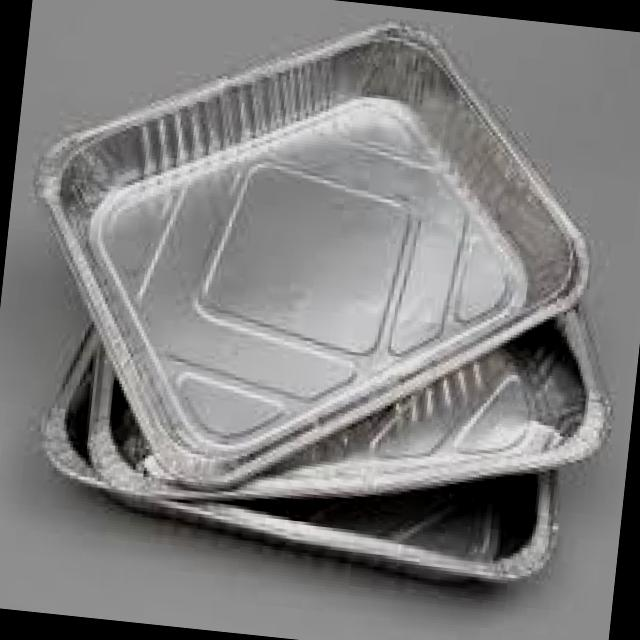kim_loai: (32, 20, 614, 583)
